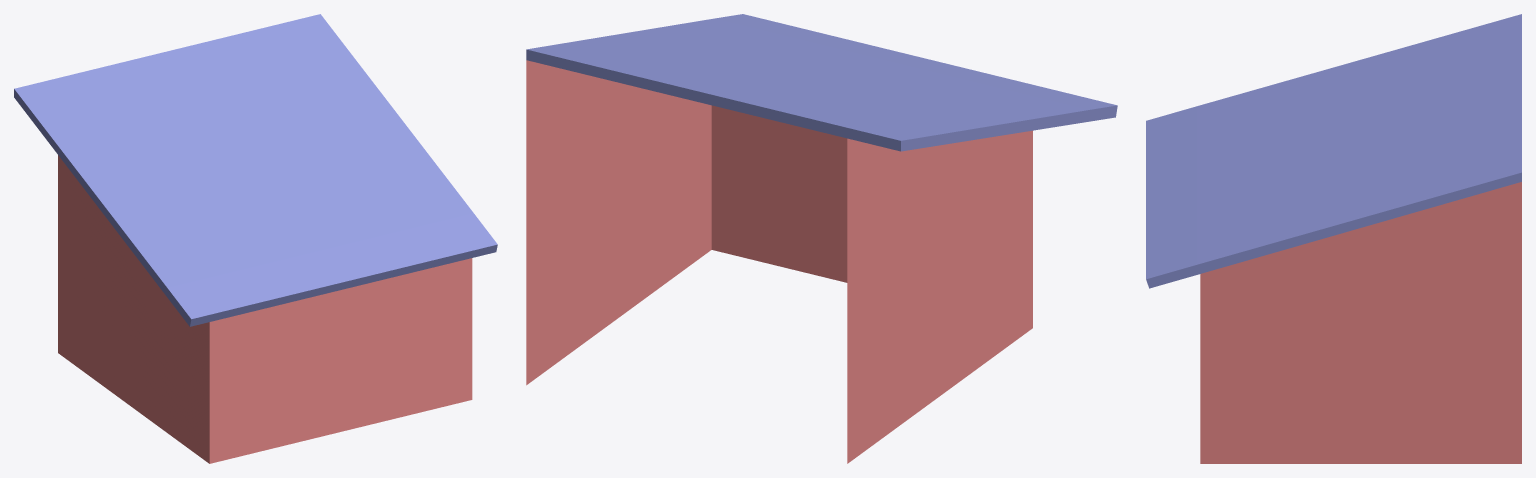
Rendered from CornerSlantRoof-L.FBX.
3 renders of one model, left to right at view 1: azimuth 30°, elevation 25°; view 2: azimuth 150°, elevation 25°; view 3: azimuth 270°, elevation 25°, orthographic. The views are drawn at different scales.
Visible parts, largest first — view 1: Object080; view 2: Object080; view 3: Object080.
Boxes of the visible parts, x1,y1,x2,y2 form: Object080: [14, 14, 497, 463]; Object080: [526, 14, 1117, 463]; Object080: [1146, 14, 1521, 463].
Bounding box in the file's own units: 350 × 300 × 351.
